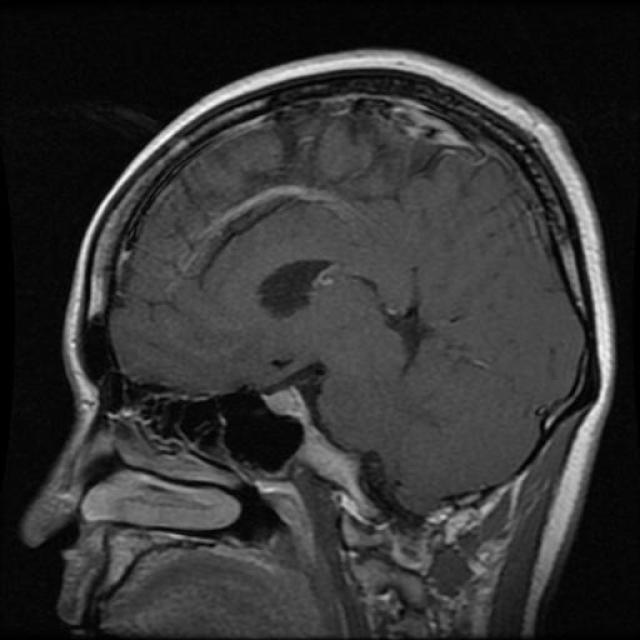pituitary: (252, 380, 371, 494)
